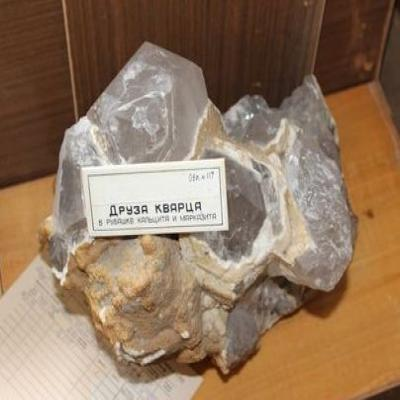mineralogy: (43, 44, 357, 380)
